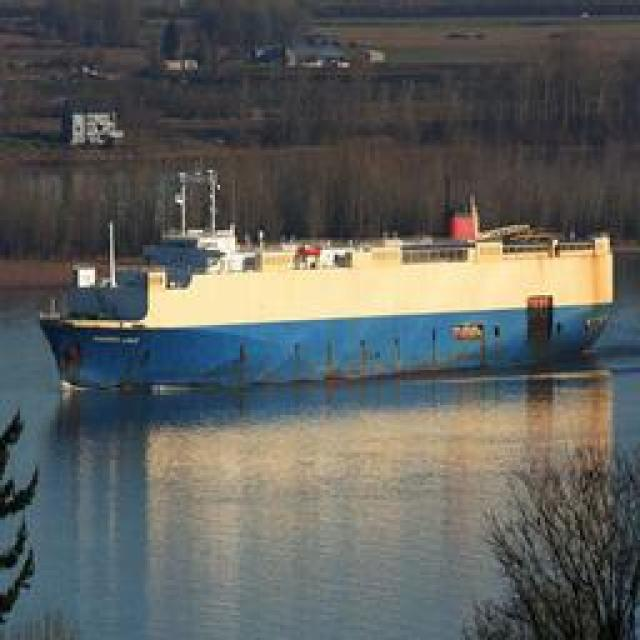CIV_Ship: (21, 212, 626, 390)
